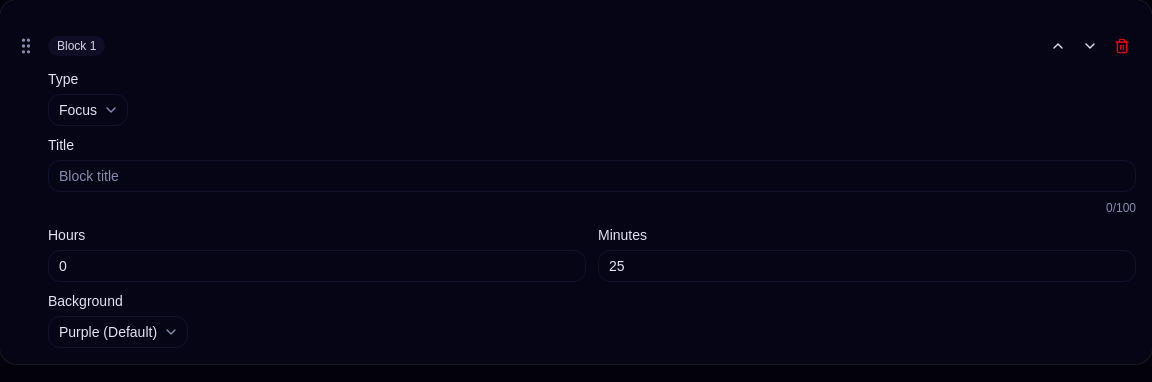
BlockCard › renders type select with Focus and Rest options
This screenshot has width=1152, height=382.
// Open the type select
What coordinates should you click on to do the following:
click the dropdown named "type"
I would click on:
 (88, 110)
Its box is [48,94,128,126].
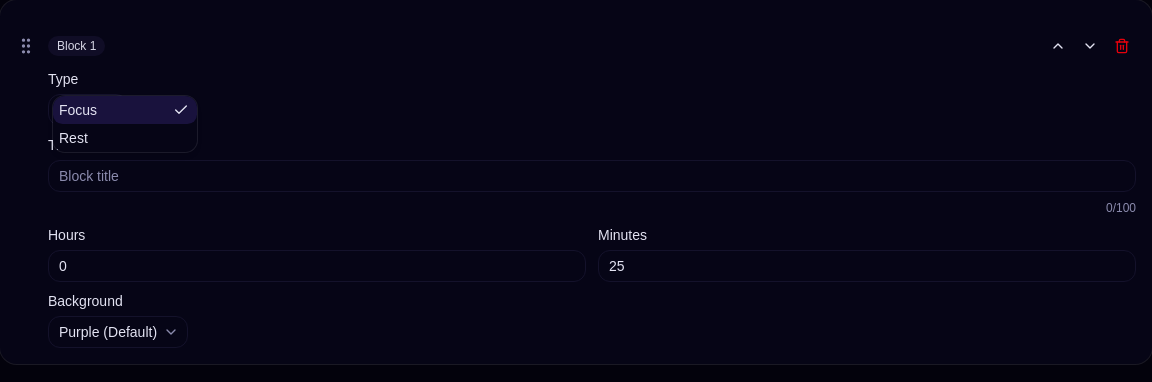
Expected: the option "Focus" is shown, [53,96,197,124]
Expected: the option "Rest" is shown, [59,130,88,146]
